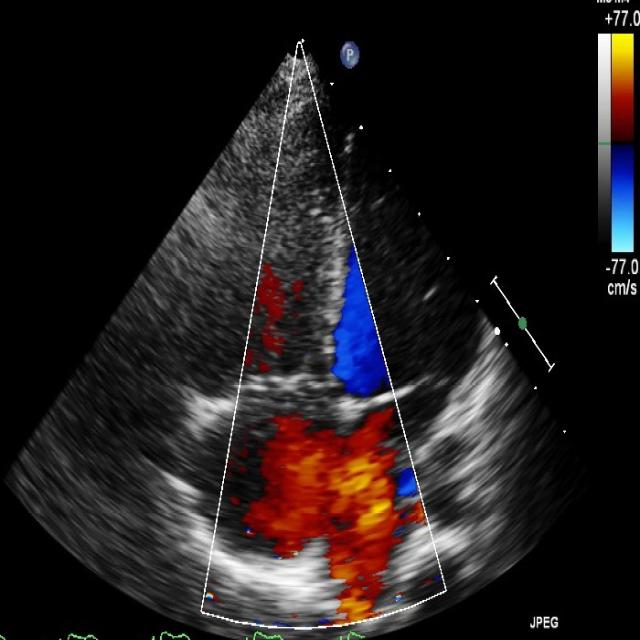ASDType2: (251, 402, 427, 621)
